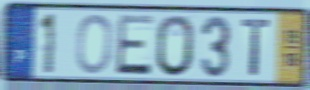1: (39, 11, 57, 76)
3: (199, 13, 231, 79)
E: (114, 13, 156, 78)
O: (155, 13, 196, 79), (74, 12, 115, 76)
T: (240, 17, 273, 78)
